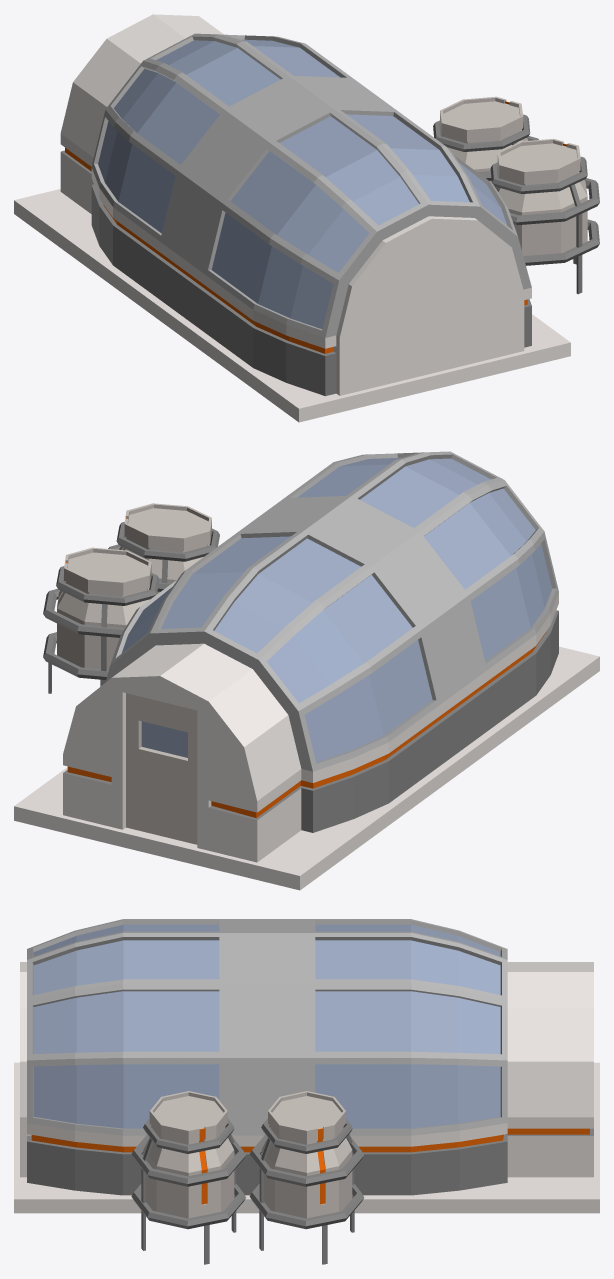
Rendered from Mars-One_farm.FBX.
3 renders of one model, top to bottom at view 1: azimuth 30°, elevation 25°; view 2: azimuth 150°, elevation 25°; view 3: azimuth 270°, elevation 25°, orthographic. The views are drawn at different scales.
Visible parts, largest first — view 1: Cylinder001; view 2: Cylinder001; view 3: Cylinder001.
Part boxes in pixels (bbox=[...]): Cylinder001: bbox=[14, 14, 599, 422]; Cylinder001: bbox=[14, 451, 599, 890]; Cylinder001: bbox=[14, 919, 599, 1264].
Size of the model in its own units: 14.16 by 7.29 by 18.21.
1 material, 1 textured.
